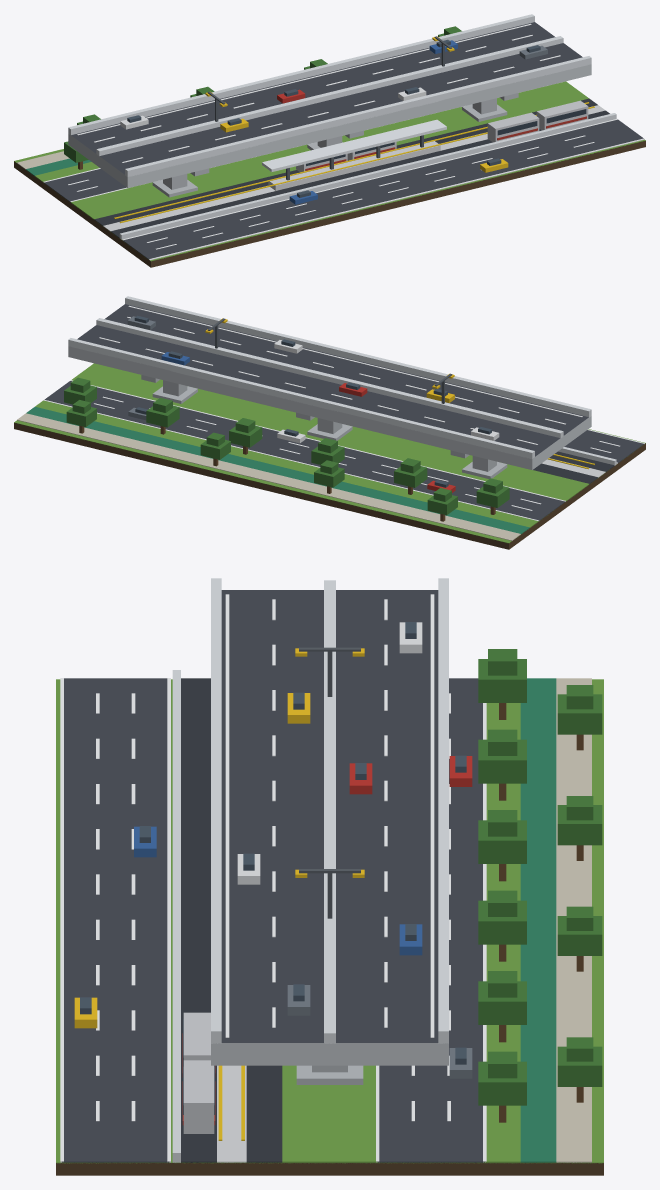
The model's file is via-expresa-simple.obj.
The picture shows the model from 3 angles, top to bottom: view 1: azimuth 30°, elevation 25°; view 2: azimuth 150°, elevation 25°; view 3: azimuth 270°, elevation 25°; orthographic projection. The views are drawn at different scales.
Visible parts, largest first — view 1: CorredorVial, ViaElevada, ViaElevadaEncima, Estacion, Terreno, Vehiculos, Columnas, Arboles; view 2: CorredorVial, ViaElevada, ViaElevadaEncima, Arboles, Terreno, Columnas, Vehiculos, Estacion; view 3: CorredorVial, ViaElevada, ViaElevadaEncima, Arboles, Terreno, Vehiculos, Estacion, Columnas.
Boxes of the visible parts, bbox=[...] form: CorredorVial: bbox=[17, 81, 644, 260]; ViaElevada: bbox=[68, 22, 591, 187]; ViaElevadaEncima: bbox=[68, 14, 591, 176]; Estacion: bbox=[119, 113, 616, 239]; Terreno: bbox=[14, 139, 645, 267]; Vehiculos: bbox=[289, 100, 588, 204]; Columnas: bbox=[152, 93, 518, 197]; Arboles: bbox=[64, 26, 461, 169]; CorredorVial: bbox=[17, 363, 644, 540]; ViaElevada: bbox=[68, 304, 591, 469]; ViaElevadaEncima: bbox=[68, 296, 591, 459]; Arboles: bbox=[64, 377, 509, 521]; Terreno: bbox=[14, 420, 645, 549]; Columnas: bbox=[141, 375, 507, 478]; Vehiculos: bbox=[128, 407, 455, 492]; Estacion: bbox=[558, 447, 616, 465]; CorredorVial: bbox=[60, 678, 591, 1162]; ViaElevada: bbox=[211, 590, 448, 1065]; ViaElevadaEncima: bbox=[211, 578, 448, 1043]; Arboles: bbox=[478, 649, 602, 1122]; Terreno: bbox=[56, 679, 603, 1175]; Vehiculos: bbox=[74, 755, 472, 1133]; Estacion: bbox=[172, 670, 180, 1162]; Columnas: bbox=[296, 1065, 363, 1084].
Bounding box in the file's own units: 96 × 16.2 × 46.
